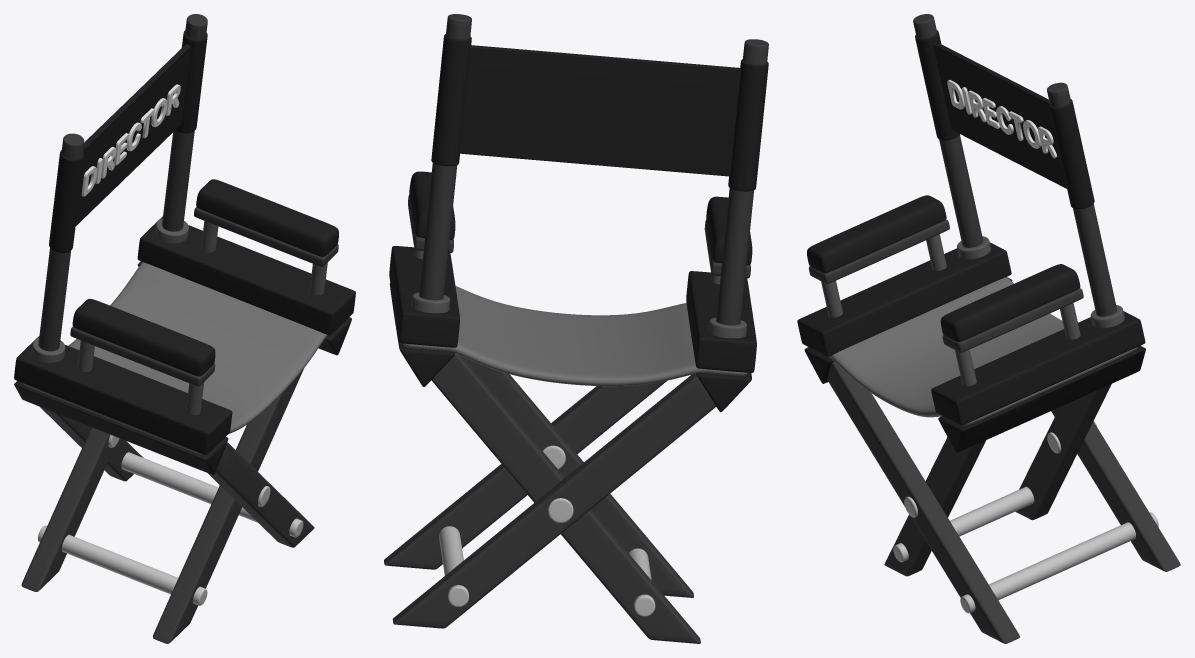
The model's file is directors-chair.glb.
3 renders of one model, left to right at view 1: azimuth 30°, elevation 25°; view 2: azimuth 150°, elevation 25°; view 3: azimuth 270°, elevation 25°, orthographic. The views are drawn at different scales.
Parts seen in each view (by area): view 1: Cube.015, Plane.046 (×2), Plane.043, Cube.018, Plane.057, Cylinder.045, Cube.016, Cylinder.046, Cube.017, Cylinder.043, Cylinder.042, Text.002 (+2 smaller); view 2: Plane.046 (×2), Plane.057, Plane.043, Cube.015, Cylinder.045, Cylinder.046, Cube.016, Cube.018, Cylinder.042, Cylinder.044, Cylinder.041, Cube.017 (+1 smaller); view 3: Plane.046 (×2), Cube.015, Plane.043, Cube.018, Plane.057, Cylinder.045, Cube.016, Cylinder.046, Cube.017, Cylinder.042, Text.002, Cylinder.047 (×2) (+2 smaller).
Boxes of the visible parts, bbox=[...] form: Cube.015: bbox=[14, 216, 355, 454]; Plane.046 (×2): bbox=[21, 369, 314, 643]; Plane.043: bbox=[23, 262, 327, 453]; Cube.018: bbox=[72, 179, 338, 376]; Plane.057: bbox=[75, 44, 190, 225]; Cylinder.045: bbox=[38, 14, 207, 351]; Cube.016: bbox=[14, 261, 351, 474]; Cylinder.046: bbox=[49, 30, 207, 252]; Cube.017: bbox=[70, 207, 338, 386]; Cylinder.043: bbox=[38, 525, 207, 605]; Cylinder.042: bbox=[121, 452, 303, 537]; Text.002: bbox=[81, 84, 180, 196]; Plane.046 (×2): bbox=[384, 353, 716, 643]; Plane.057: bbox=[459, 45, 740, 176]; Plane.043: bbox=[403, 286, 747, 386]; Cube.015: bbox=[389, 246, 756, 372]; Cylinder.045: bbox=[419, 14, 768, 325]; Cylinder.046: bbox=[431, 34, 768, 191]; Cube.016: bbox=[389, 283, 751, 412]; Cube.018: bbox=[409, 171, 752, 265]; Cylinder.042: bbox=[439, 526, 468, 606]; Cylinder.044: bbox=[411, 292, 746, 338]; Cylinder.041: bbox=[543, 445, 573, 522]; Cube.017: bbox=[408, 194, 750, 278]; Plane.046 (×2): bbox=[827, 361, 1180, 643]; Cube.015: bbox=[797, 242, 1145, 425]; Plane.043: bbox=[828, 277, 1137, 425]; Cube.018: bbox=[807, 195, 1080, 341]; Plane.057: bbox=[933, 42, 1066, 188]; Cylinder.045: bbox=[913, 14, 1116, 316]; Cube.016: bbox=[804, 277, 1145, 452]; Cylinder.046: bbox=[915, 30, 1094, 209]; Cube.017: bbox=[808, 219, 1083, 352]; Cylinder.042: bbox=[960, 512, 1158, 613]; Text.002: bbox=[947, 80, 1057, 158]; Cylinder.047 (×2): bbox=[821, 234, 1080, 386].
Size of the model in its own units: 1.78 by 2.78 by 1.8.
3 materials, 3 textured.
